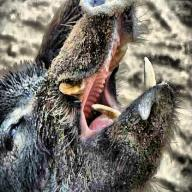boar: (0, 0, 190, 184)
